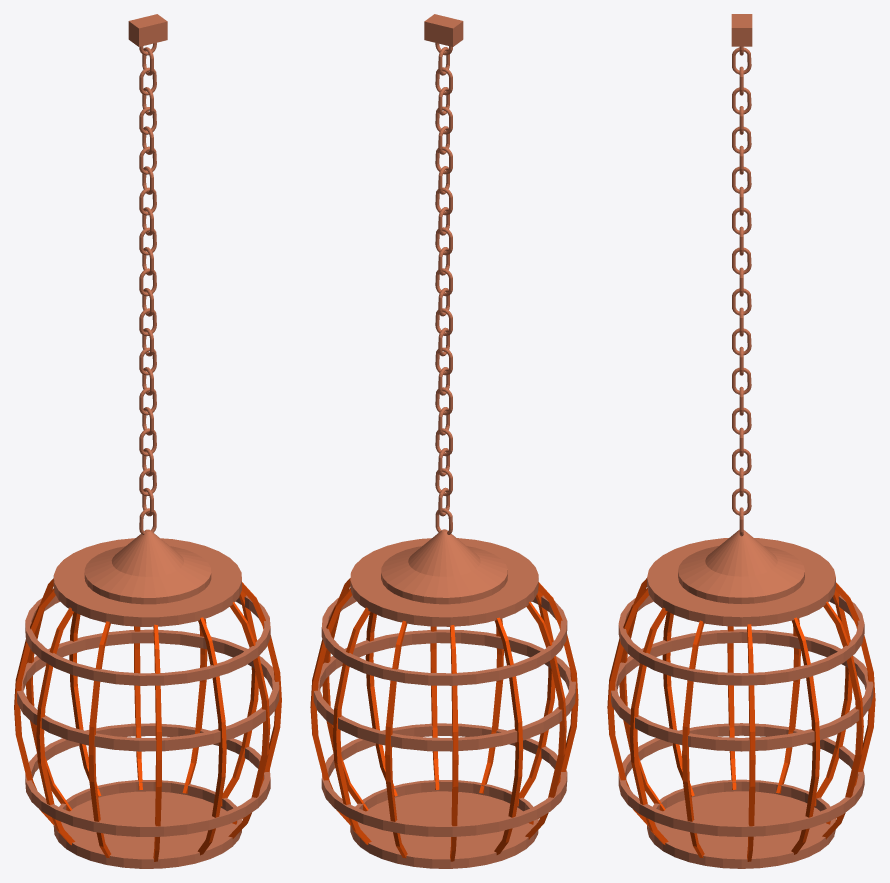
The model's file is cage.fbx.
The picture shows the model from 3 angles, left to right: view 1: azimuth 30°, elevation 25°; view 2: azimuth 150°, elevation 25°; view 3: azimuth 270°, elevation 25°; orthographic projection.
Visible parts, largest first — view 1: Circle.002; view 2: Circle.002; view 3: Circle.002.
Part boxes in pixels (<box>): Circle.002: <box>14,14,281,868</box>; Circle.002: <box>310,14,578,868</box>; Circle.002: <box>607,14,875,868</box>.
Bounding box in the file's own units: 214 × 712 × 214.
